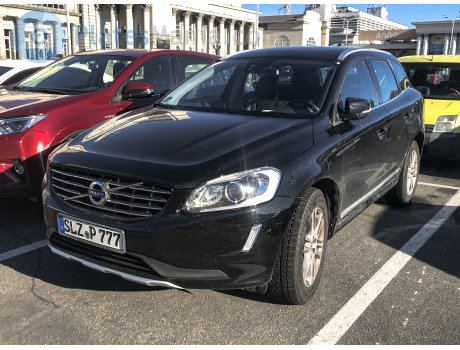License Plates: (64, 216, 122, 245)
